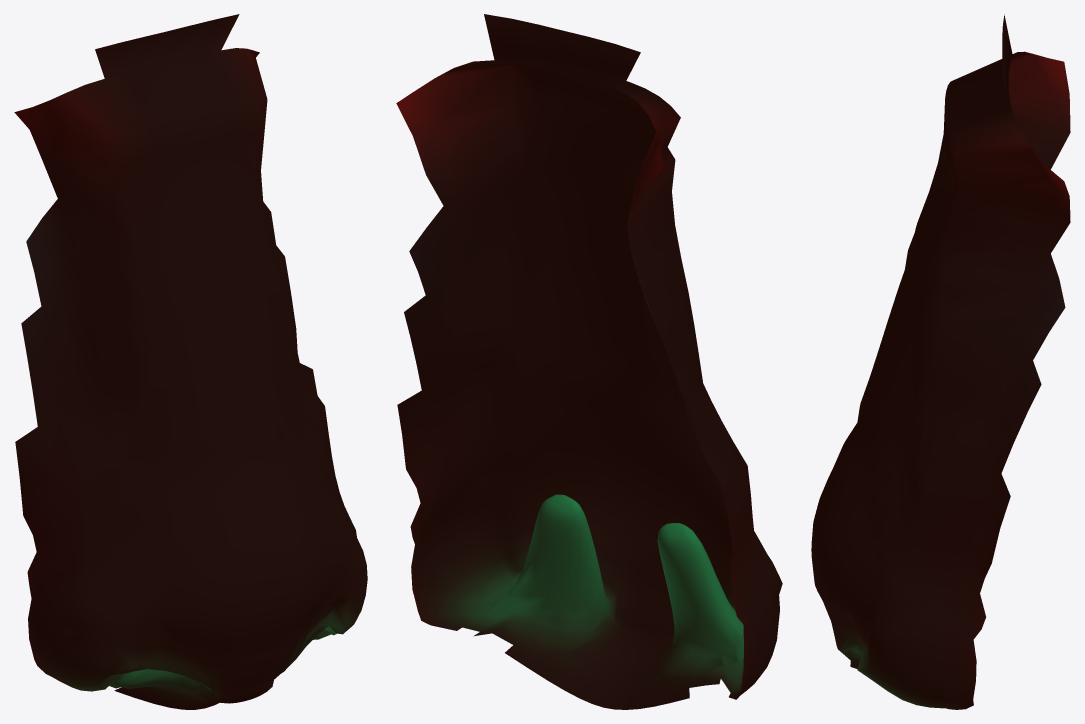
File: nez05.dae
3 renders of one model, left to right at view 1: azimuth 30°, elevation 25°; view 2: azimuth 150°, elevation 25°; view 3: azimuth 270°, elevation 25°, orthographic. The views are drawn at different scales.
Visible parts, largest first — view 1: Object001; view 2: Object001; view 3: Object001.
Boxes of the visible parts, left/top/right/bottom form: Object001: left=14, top=14, right=367, bottom=709; Object001: left=396, top=14, right=782, bottom=709; Object001: left=811, top=14, right=1070, bottom=709.
Bounding box in the file's own units: 3.19 × 2.3 × 6.36.
